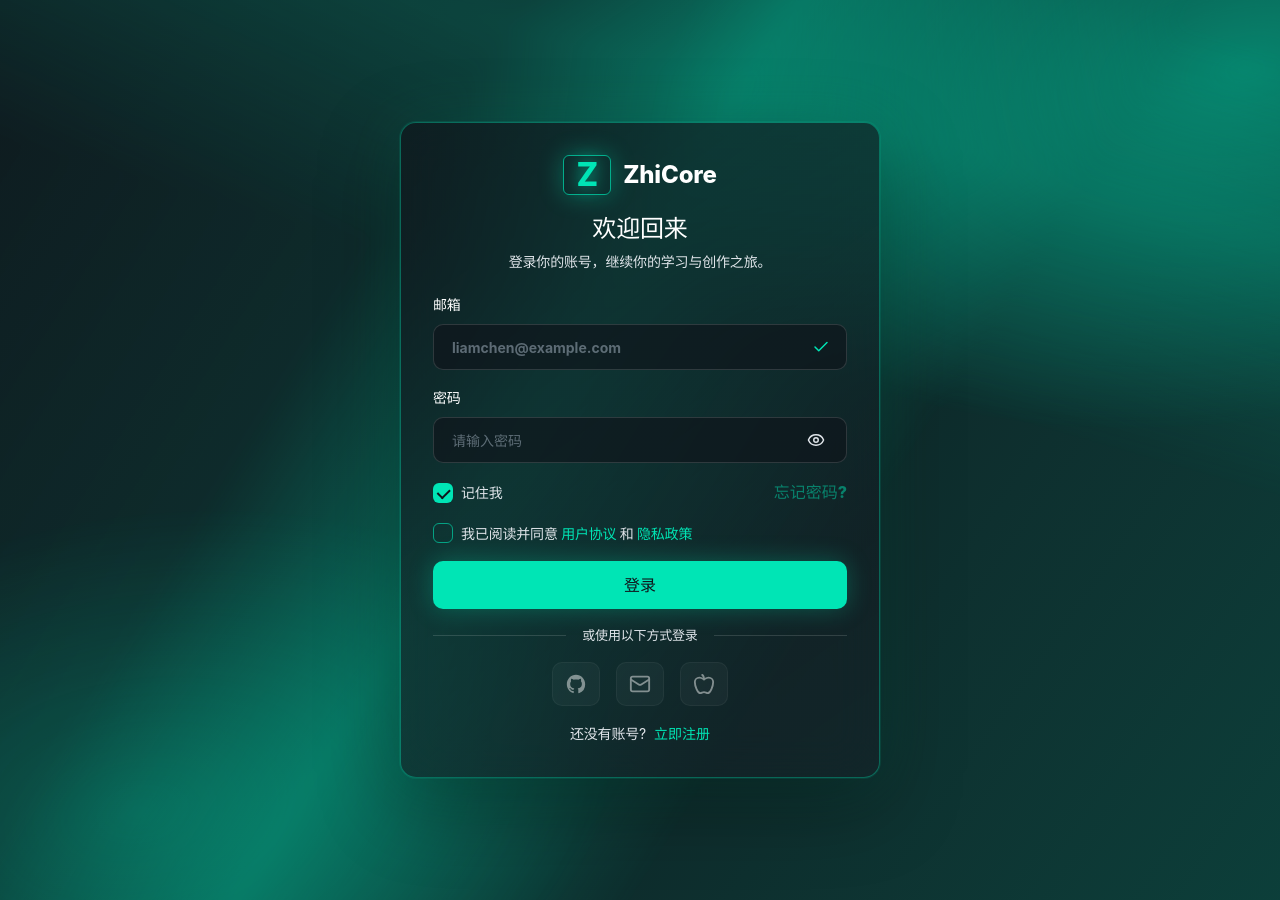
Test: LoginRoutePage › renders the auth workspace and switches to register mode
Check: the heading "欢迎回来" is shown, box [592,214,688,242]
Click the button "立即注册": (682,734) [654,722,710,745]
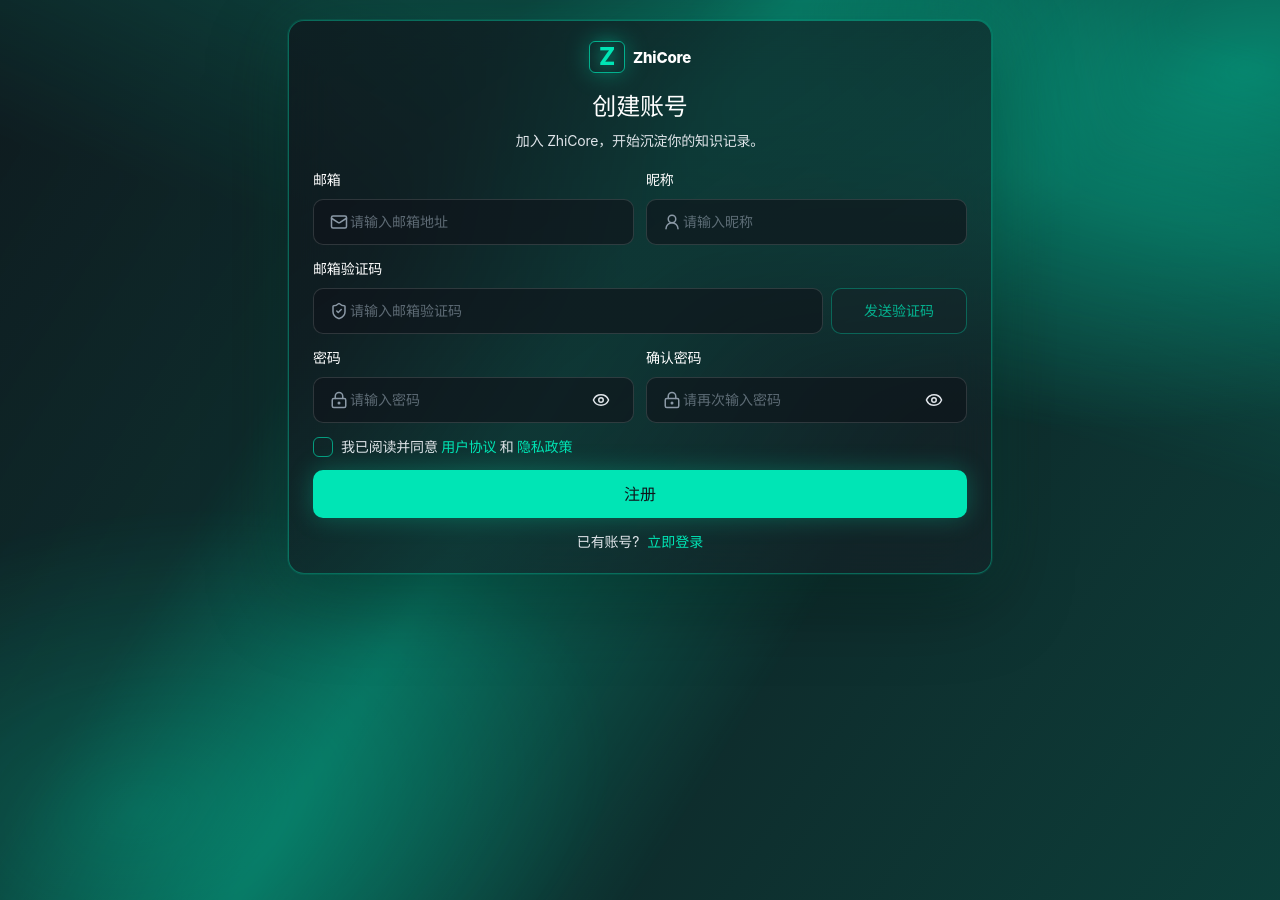
Check: the heading "创建账号" is shown, box [592,93,688,121]
